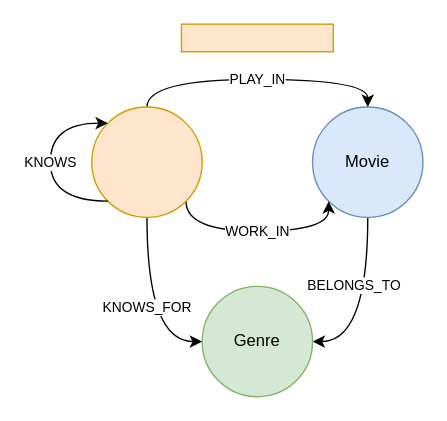
Image size: 447x421. Some labels were removed from this diagram. Each missing label, with the centre of its shape:
"*(Actor || Movie Maker)" goes at point (256, 37).
"People*" goes at point (146, 161).
